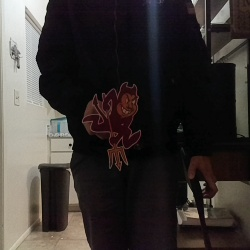sparky: (81, 81, 141, 171)
